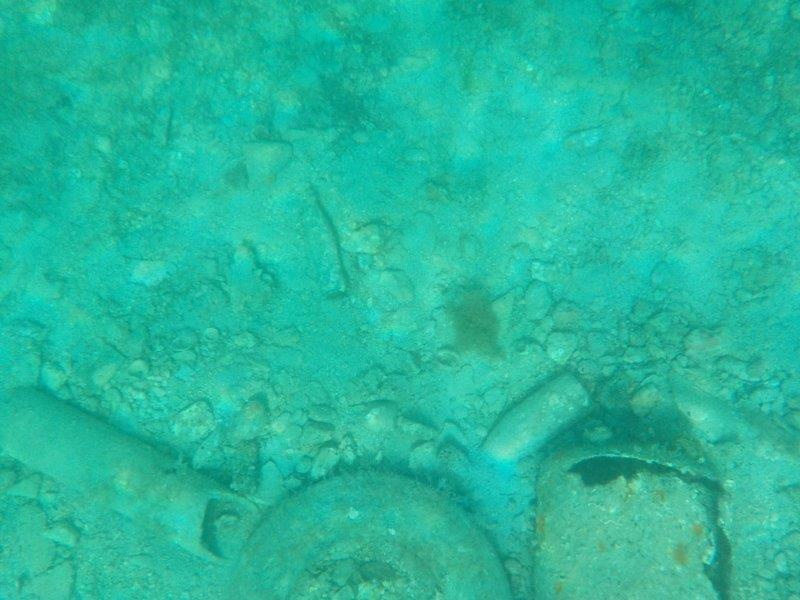bottle: (459, 366, 601, 484), (289, 179, 355, 306)
tire: (216, 464, 514, 600)
